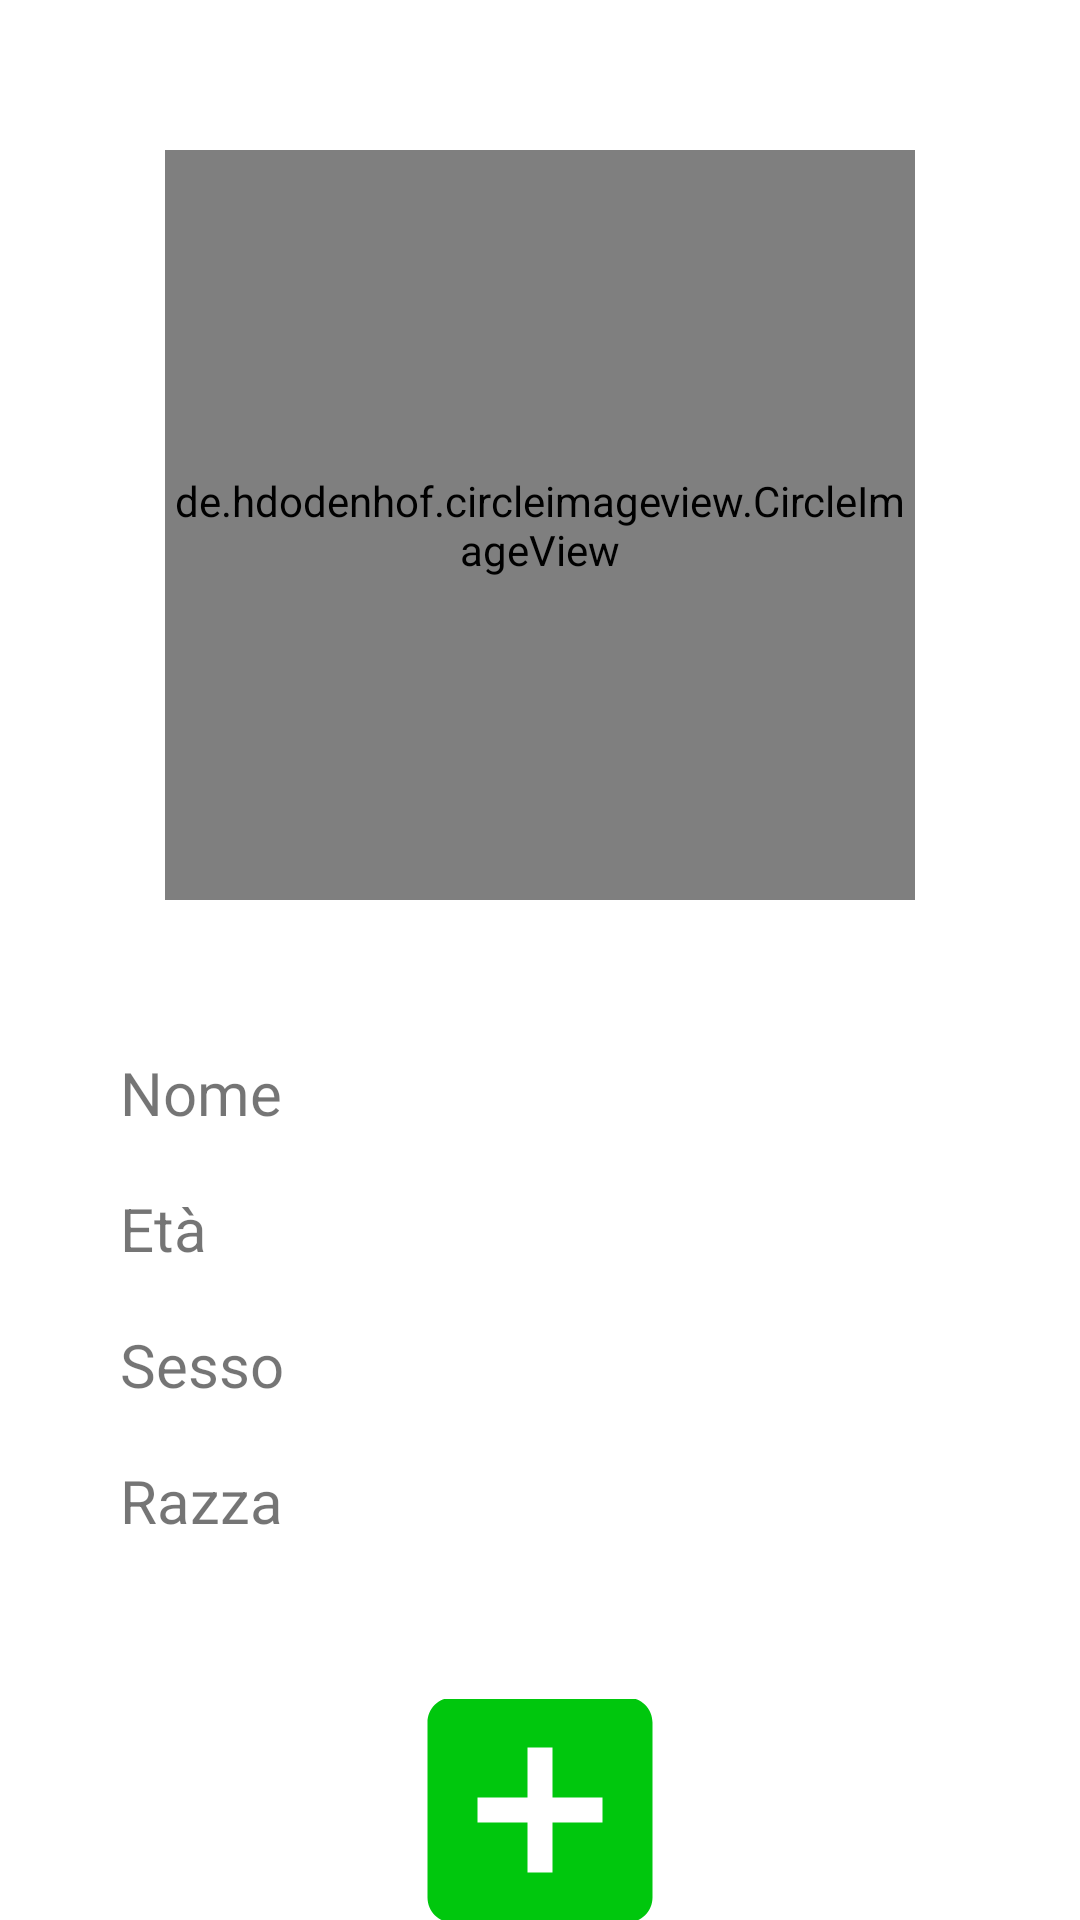

Icon bounding boxes for this 1080px×1920px phone screenshot, format {"x1": x1, "y1": y1, "x2": x2, "y2": y2}:
add: {"x1": 427, "y1": 1699, "x2": 653, "y2": 1920}
